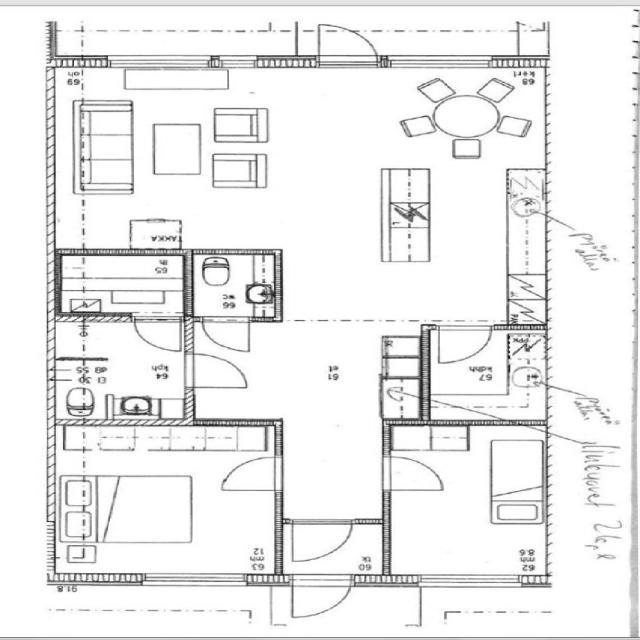door: (378, 430, 541, 572), (422, 320, 545, 423), (276, 516, 362, 567), (307, 20, 388, 70), (178, 348, 254, 394), (375, 451, 450, 496), (212, 452, 288, 496), (427, 323, 497, 370), (125, 313, 190, 356), (194, 313, 256, 356), (204, 52, 264, 71)
window: (97, 52, 218, 74), (135, 569, 255, 591), (377, 51, 500, 71), (411, 571, 526, 592), (207, 52, 263, 70)
zone: (188, 316, 423, 539), (384, 77, 542, 337), (52, 422, 285, 584), (71, 83, 261, 255), (380, 422, 548, 581), (49, 316, 192, 428), (421, 324, 548, 424), (54, 253, 190, 316), (188, 248, 282, 318), (276, 516, 360, 566), (282, 570, 356, 622)
